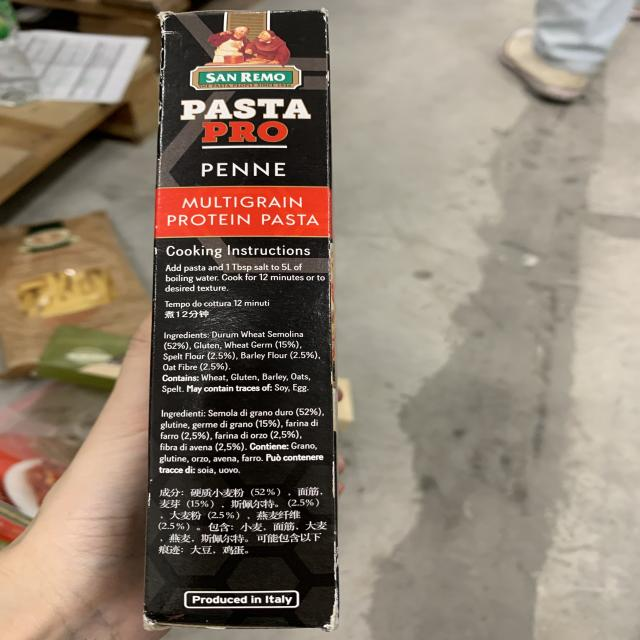object_name: (157, 14, 339, 623)
